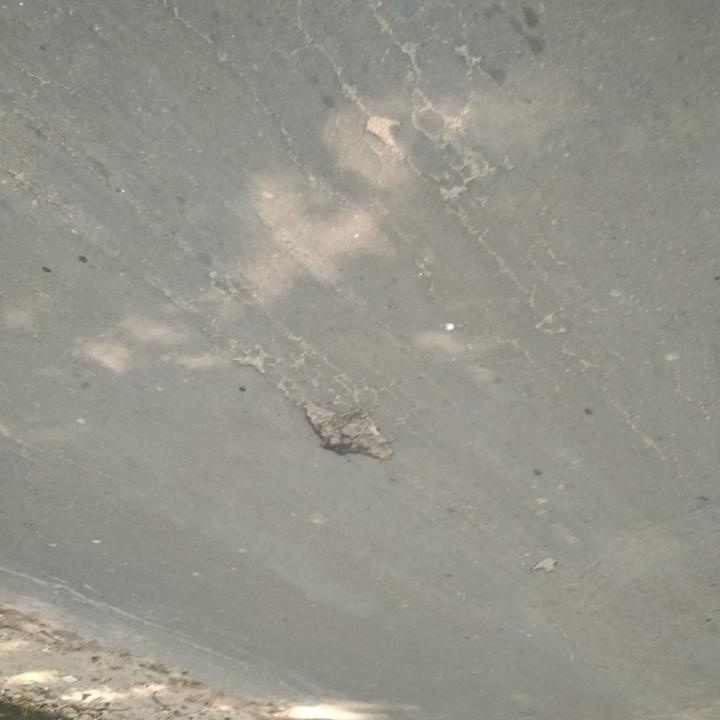pothole: (298, 398, 393, 466), (361, 113, 403, 148), (53, 665, 108, 690), (0, 651, 36, 674), (528, 556, 557, 576), (33, 710, 70, 720), (83, 710, 117, 720), (57, 696, 85, 708), (22, 685, 52, 696), (0, 706, 16, 717), (10, 716, 34, 720)
